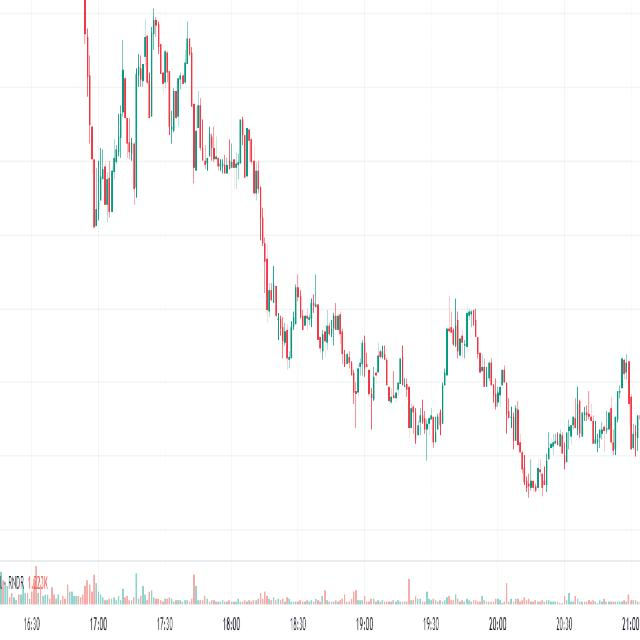Channel-down: (242, 232, 453, 486)
